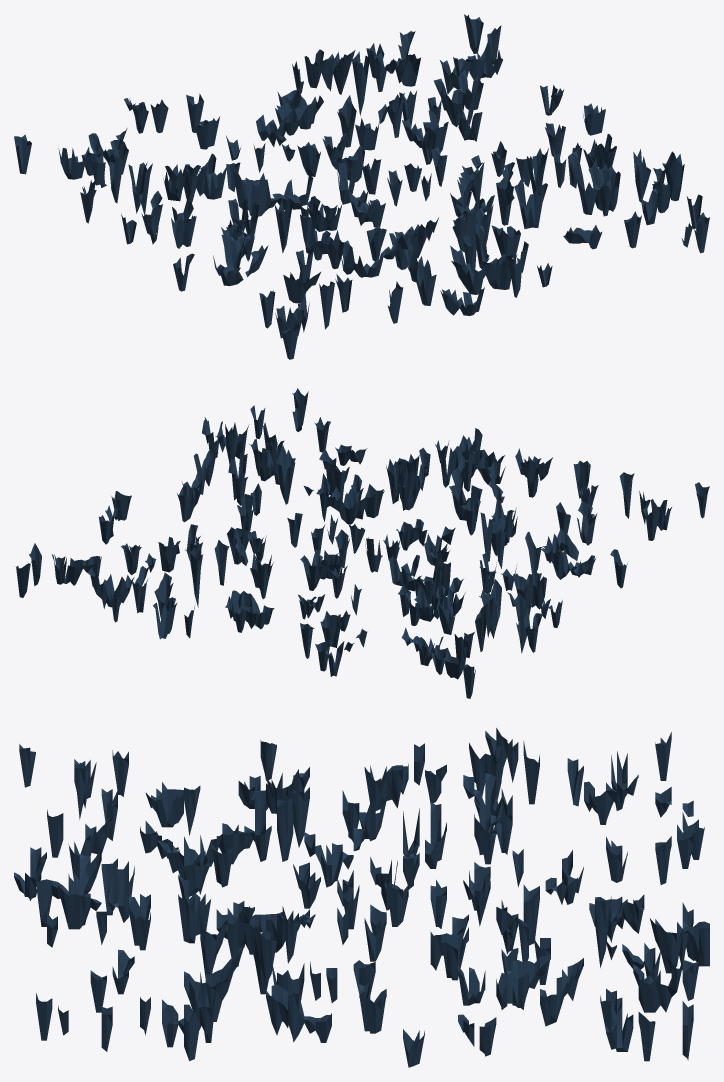
The model's file is landscape_MOUNTAIN_v1_rivers.obj.
The picture shows the model from 3 angles, top to bottom: view 1: azimuth 30°, elevation 25°; view 2: azimuth 150°, elevation 25°; view 3: azimuth 270°, elevation 25°; orthographic projection. The views are drawn at different scales.
Parts seen in each view (by area): view 1: rivers_MOUNTAIN; view 2: rivers_MOUNTAIN; view 3: rivers_MOUNTAIN.
Boxes of the visible parts, x1,y1,x2,y2 form: rivers_MOUNTAIN: (14, 14, 709, 359); rivers_MOUNTAIN: (16, 388, 709, 698); rivers_MOUNTAIN: (14, 728, 709, 1067).
Bounding box in the file's own units: 253 × 30.49 × 254.
